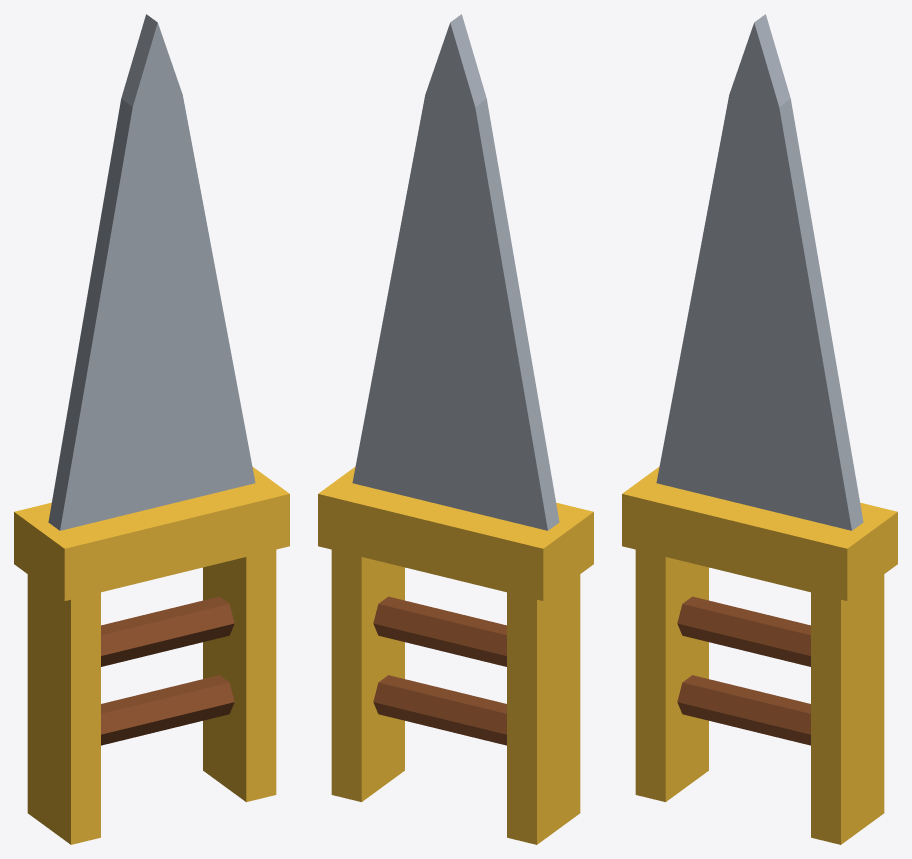
Rendered from Katar.fbx.
The picture shows the model from 3 angles, left to right: view 1: azimuth 30°, elevation 25°; view 2: azimuth 150°, elevation 25°; view 3: azimuth 330°, elevation 25°; orthographic projection.
Visible parts, largest first — view 1: Katar; view 2: Katar; view 3: Katar.
Part boxes in pixels (x1,y1,x2,y2): Katar: (14,14,289,844); Katar: (318,14,593,844); Katar: (622,14,897,844).
Bounding box in the file's own units: 0.9 × 3 × 0.35.
Materials: 1 (1 with a texture image).
